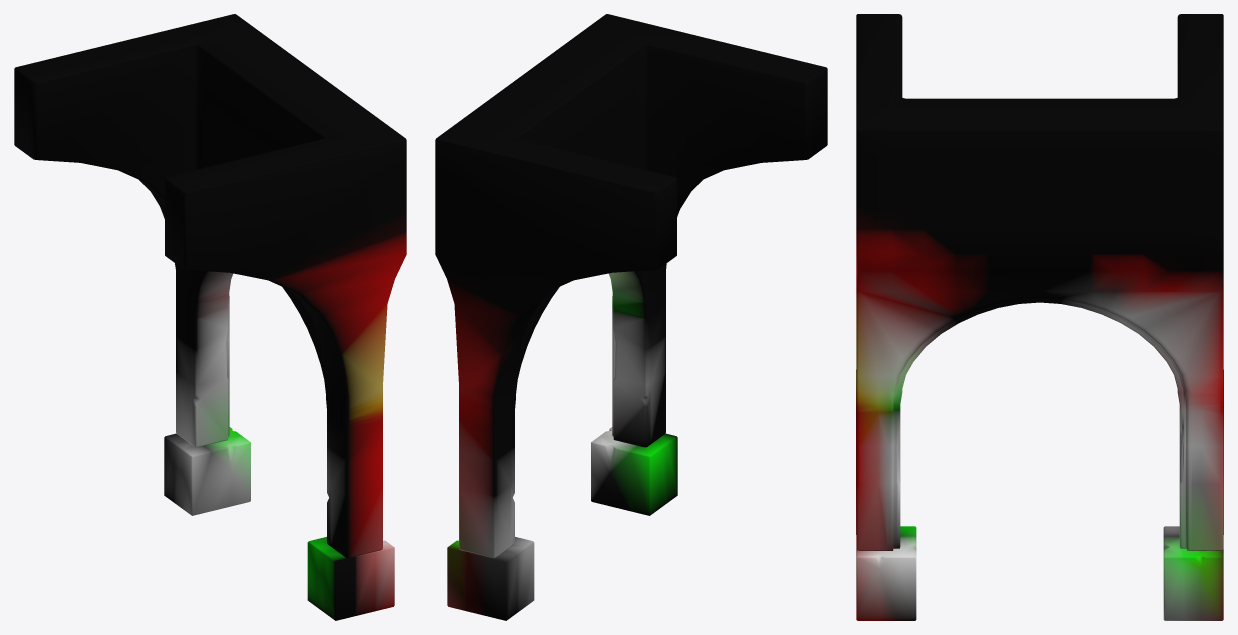
Rendered from SM_Column_Crypt_Var_02.fbx.
3 views of the same model, side by side, from view 1: azimuth 30°, elevation 25°; view 2: azimuth 150°, elevation 25°; view 3: azimuth 270°, elevation 25° (orthographic). The views are drawn at different scales.
Parts seen in each view (by area): view 1: SM_Column_Crypt_Var_02_LOD0; view 2: SM_Column_Crypt_Var_02_LOD0; view 3: SM_Column_Crypt_Var_02_LOD0.
Part boxes in pixels (left/top/right/bottom): SM_Column_Crypt_Var_02_LOD0: left=14, top=14, right=406, bottom=620; SM_Column_Crypt_Var_02_LOD0: left=435, top=14, right=827, bottom=620; SM_Column_Crypt_Var_02_LOD0: left=856, top=14, right=1223, bottom=620.
Size of the model in its own units: 300 by 401 by 600.
